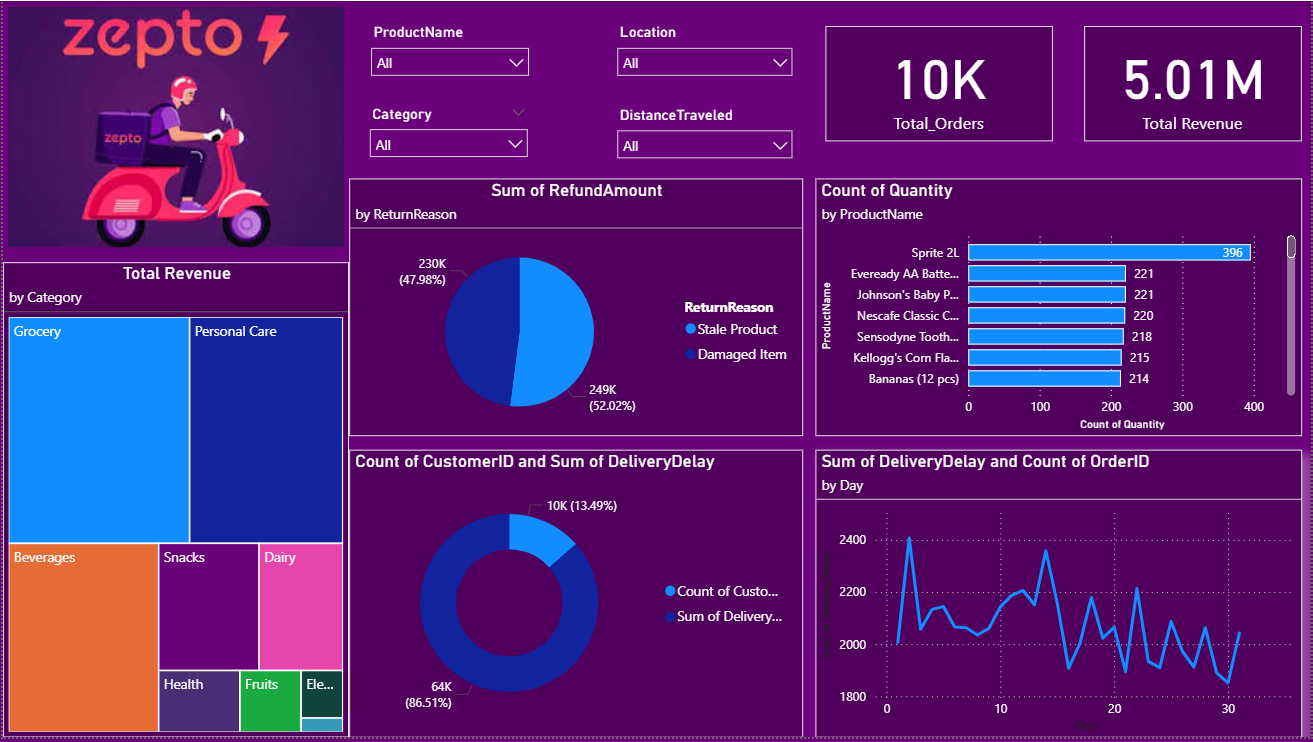

What the dashboard file says about the page in this screenshot:
{"tool":"powerbi","page":{"name":"Page 1","canvas":[1280,720],"ordinal":0},"visuals":[{"type":"lineChart","fields":{"Y":["Sum(Cleaned_Orders.DeliveryDelay)"],"Category":["Orders.OrderDateTime.Variation.Date Hierarchy.Day"]},"box":[794.8,439,475.7,281.3],"z":0},{"type":"barChart","fields":{"Category":["Cleaned_Products.ProductName"],"Y":["CountNonNull(Cleaned_Orders.Quantity)"]},"box":[794.8,173.6,475.7,251.9],"z":1000},{"type":"pieChart","fields":{"Category":["Cleaned_Returns.ReturnReason"],"Y":["Sum(Cleaned_Returns.RefundAmount)"]},"box":[338.7,173.6,443.9,251.9],"z":2000},{"type":"treemap","fields":{"Values":["Dark_Warehouses.Total Revenue"],"Group":["Products.Category"]},"box":[0,255.6,338.7,464.7],"z":3000},{"type":"donutChart","fields":{"Y":["CountNonNull(Orders.CustomerID)","Sum(Orders.DeliveryDelay)"]},"box":[338.7,439,443.9,281.3],"z":4000},{"type":"image","box":[0,0,338.7,247],"z":5000},{"type":"card","fields":{"Values":["Dark_Warehouses.Total_Orders"]},"box":[804.6,24.5,222.6,112.5],"z":6000},{"type":"card","fields":{"Values":["Dark_Warehouses.Total Revenue"]},"box":[1057.8,24.5,212.8,112.5],"z":7000},{"type":"slicer","fields":{"Values":["Products.ProductName"]},"box":[349.7,17.1,174.9,63.6],"z":8000},{"type":"slicer","fields":{"Values":["Dark_Warehouses.Location"]},"box":[590.6,17.1,192,63.6],"z":9000},{"type":"slicer","fields":{"Values":["Products.Category"]},"box":[348.5,96.6,174.9,64.8],"z":10000},{"type":"slicer","fields":{"Values":["Delivery.DistanceTraveled"]},"box":[590.6,97.8,192,63.6],"z":11000}]}

Visuals, with their boxes in screenshot pixels (x1, y1, x2, y2), scaled from the page's 1280x720 canvas onto the 1313x742 screenshot:
lineChart - Sum(Cleaned_Orders.DeliveryDelay) x Orders.OrderDateTime.Variation.Date Hierarchy.Day: x1=815 y1=452 x2=1303 y2=741
barChart - Cleaned_Products.ProductName x CountNonNull(Cleaned_Orders.Quantity): x1=815 y1=179 x2=1303 y2=439
pieChart - Cleaned_Returns.ReturnReason x Sum(Cleaned_Returns.RefundAmount): x1=347 y1=179 x2=803 y2=439
treemap - Dark_Warehouses.Total Revenue x Products.Category: x1=0 y1=263 x2=347 y2=741
donutChart - CountNonNull(Orders.CustomerID) x Sum(Orders.DeliveryDelay): x1=347 y1=452 x2=803 y2=741
image: x1=0 y1=0 x2=347 y2=255
card - Dark_Warehouses.Total_Orders: x1=825 y1=25 x2=1054 y2=141
card - Dark_Warehouses.Total Revenue: x1=1085 y1=25 x2=1303 y2=141
slicer - Products.ProductName: x1=359 y1=18 x2=538 y2=83
slicer - Dark_Warehouses.Location: x1=606 y1=18 x2=803 y2=83
slicer - Products.Category: x1=357 y1=100 x2=537 y2=166
slicer - Delivery.DistanceTraveled: x1=606 y1=101 x2=803 y2=166
